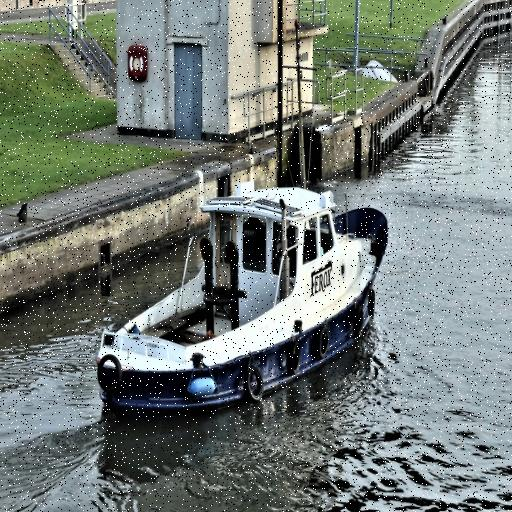tugboat: (92, 15, 393, 433)
